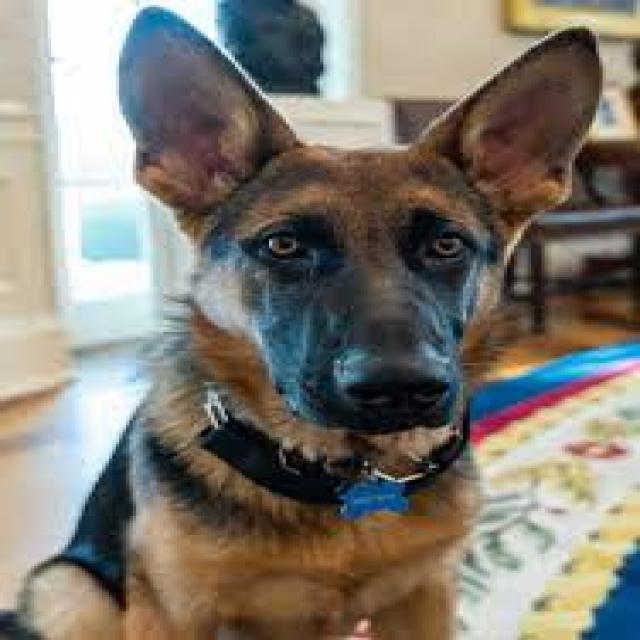dogs: (10, 4, 609, 640)
